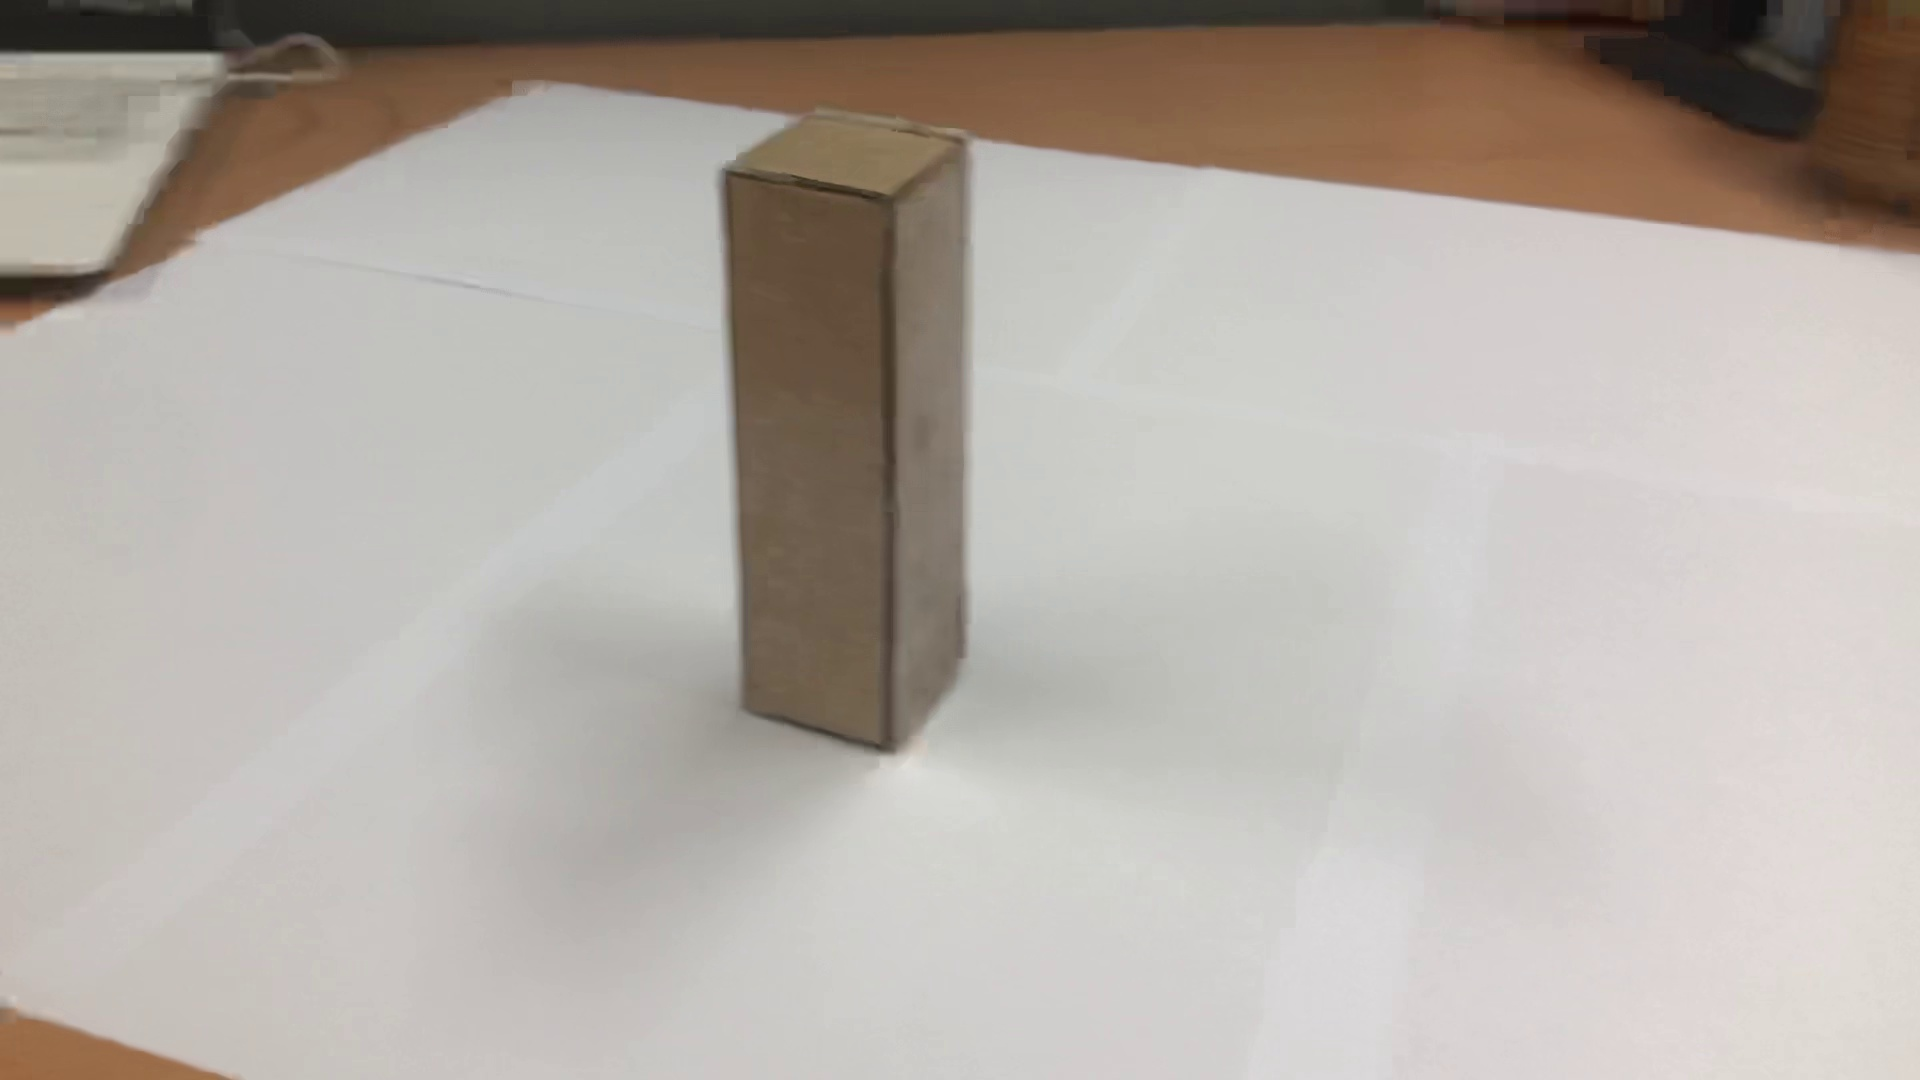box: (684, 94, 1026, 773)
